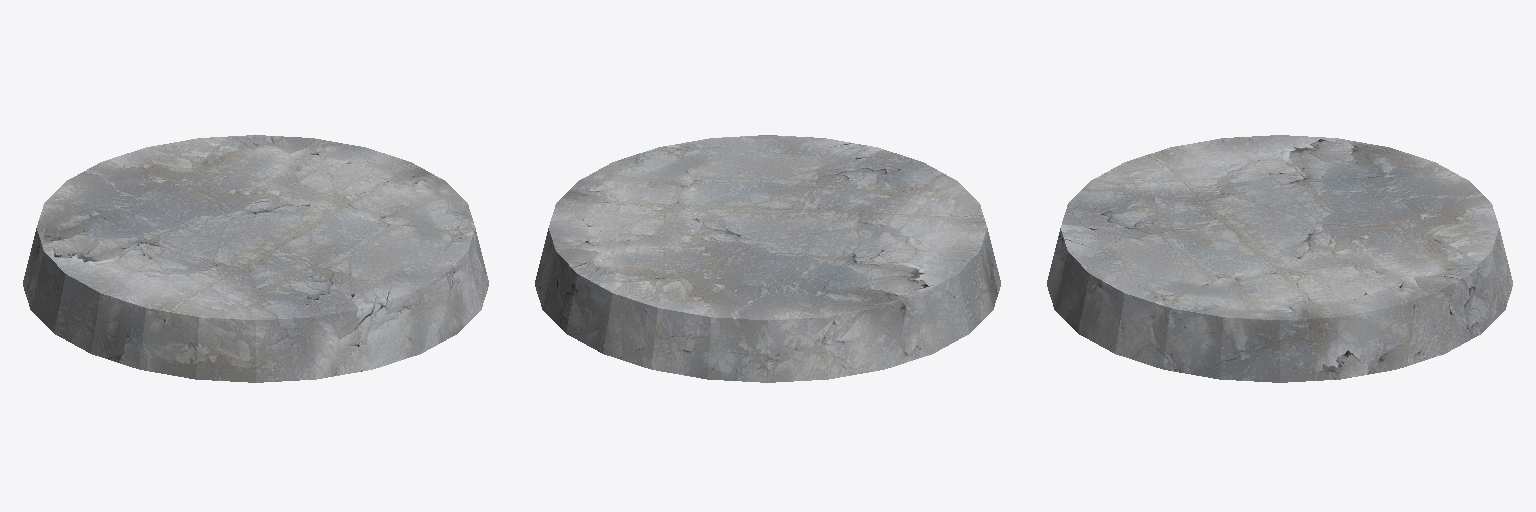
3 renders of one model, left to right at view 1: azimuth 30°, elevation 25°; view 2: azimuth 150°, elevation 25°; view 3: azimuth 270°, elevation 25°, orthographic.
Parts seen in each view (by area): view 1: Pedestal_Circle; view 2: Pedestal_Circle; view 3: Pedestal_Circle.
Part boxes in pixels (bbox=[...]): Pedestal_Circle: bbox=[23, 135, 488, 382]; Pedestal_Circle: bbox=[535, 135, 1000, 382]; Pedestal_Circle: bbox=[1047, 135, 1512, 382].
Bounding box in the file's own units: 2 × 0.2673 × 2.
Materials: 1 (1 with a texture image).